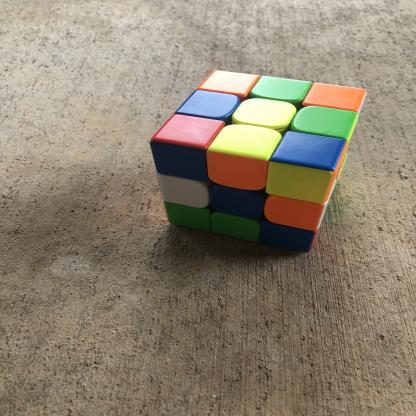UnsolvedCube: (141, 57, 376, 251)
